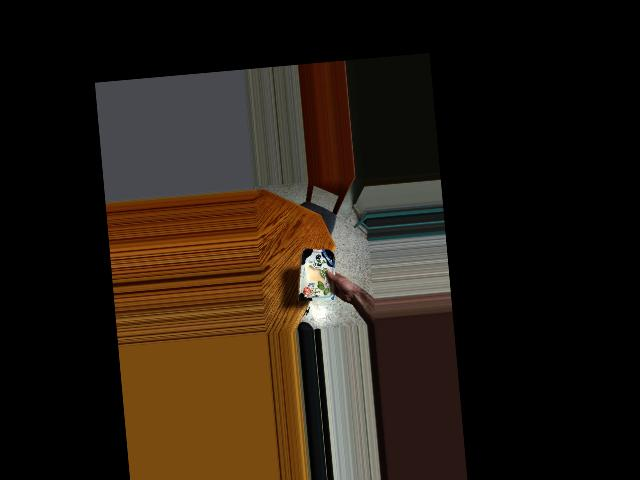cheese: (293, 247, 345, 303)
